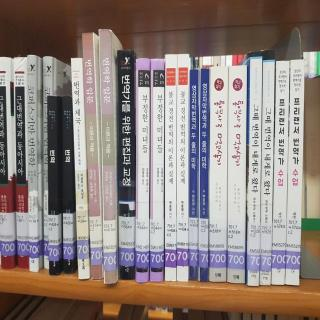book-spine: (81, 32, 102, 279), (70, 57, 90, 280), (227, 66, 247, 284), (99, 29, 116, 284), (285, 59, 304, 286), (208, 67, 228, 282), (271, 60, 290, 286), (118, 50, 135, 280), (134, 57, 151, 283), (259, 59, 275, 285), (13, 57, 30, 269), (247, 57, 262, 287), (0, 57, 16, 268), (149, 59, 164, 282), (164, 54, 177, 282), (176, 54, 189, 282), (27, 54, 39, 272), (46, 96, 59, 276), (43, 56, 53, 270), (61, 96, 73, 274), (189, 69, 199, 280), (200, 69, 209, 282), (227, 220, 246, 270), (209, 219, 227, 267), (119, 215, 135, 267), (285, 219, 301, 269), (0, 211, 17, 256), (271, 218, 286, 269), (149, 219, 164, 268), (102, 220, 116, 271), (135, 219, 149, 268), (89, 216, 102, 266), (76, 211, 89, 259), (259, 223, 272, 271), (248, 223, 260, 271), (16, 212, 29, 256), (165, 217, 176, 267), (177, 217, 188, 266), (48, 215, 59, 261), (199, 218, 209, 268), (63, 214, 73, 260), (188, 217, 197, 267), (28, 213, 38, 258), (43, 213, 49, 256)
